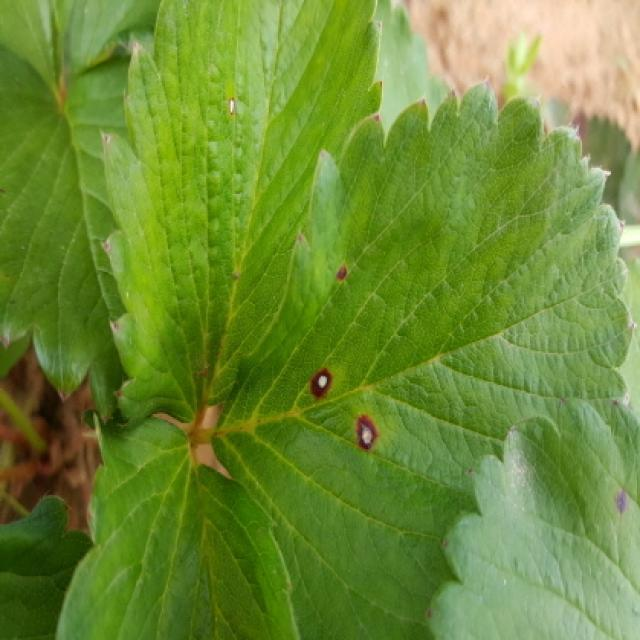Leaf Spot: (210, 75, 637, 638), (98, 0, 385, 431), (429, 398, 638, 638)
